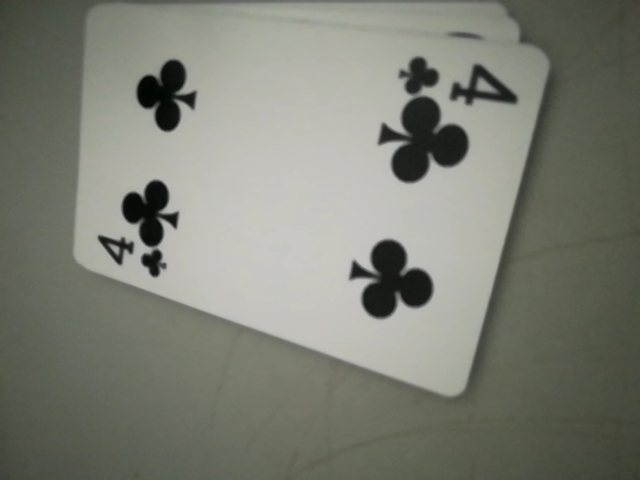mh 4: (396, 47, 519, 105), (90, 228, 172, 284)
